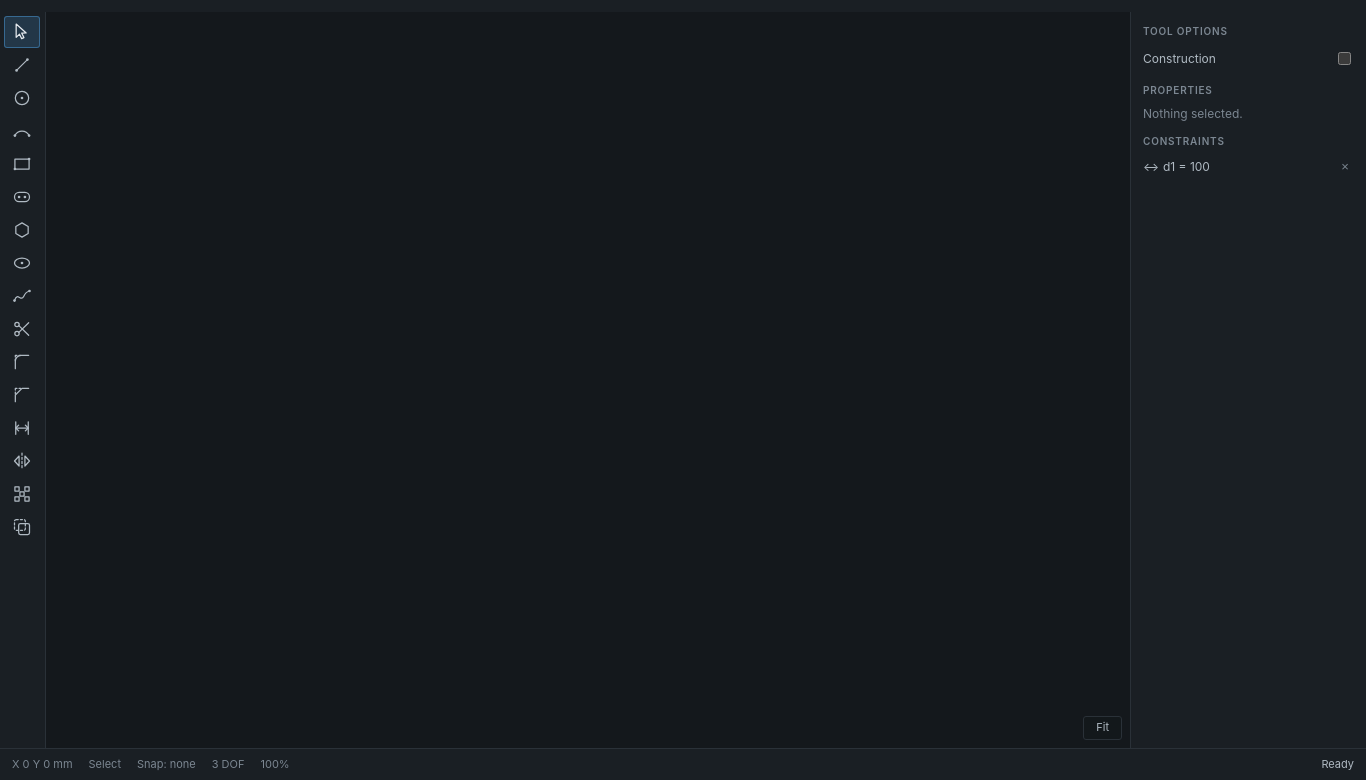
it: constraints and dimensions › deletes a constraint from the panel
This screenshot has width=1366, height=780.
Click the button named "Delete length constraint": (1345, 167) [1336,160,1354,173]
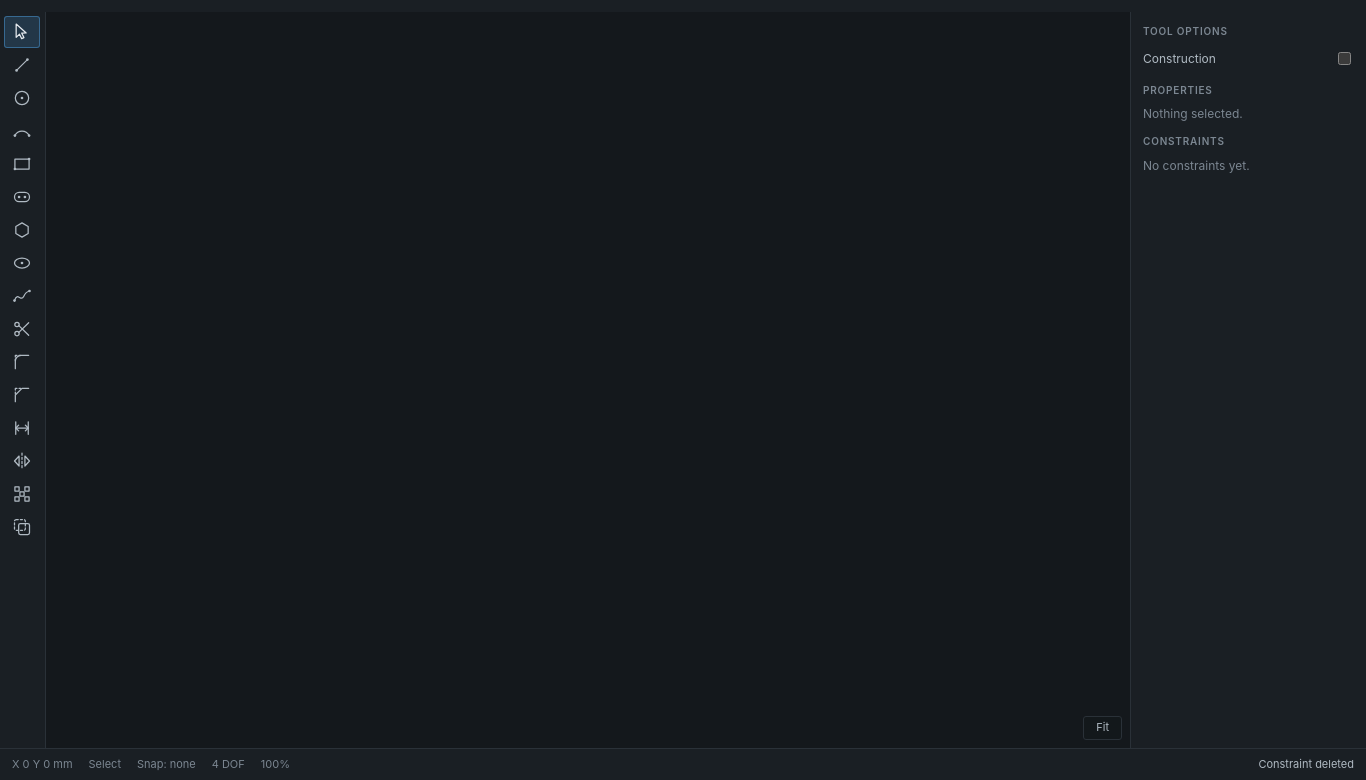
Now the text "Constraint deleted" is shown, box [1258,756,1354,772]
